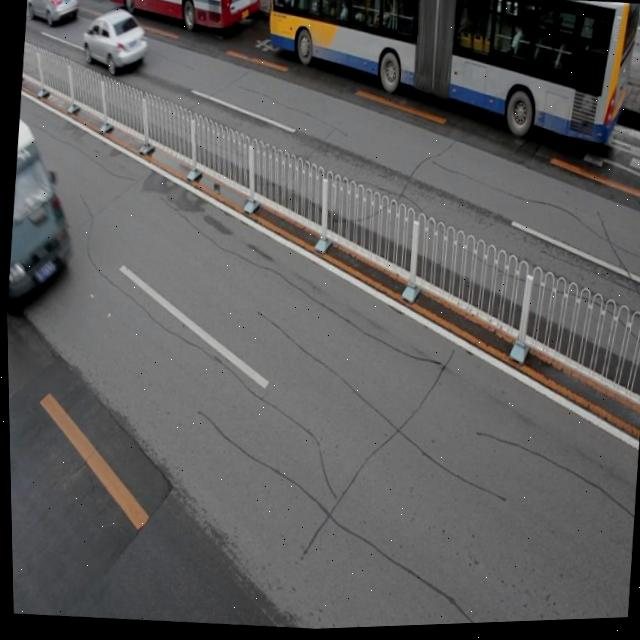car: (81, 6, 149, 78), (24, 0, 81, 29)
truck: (2, 118, 83, 306)
van: (258, 0, 639, 161), (103, 0, 260, 34)
